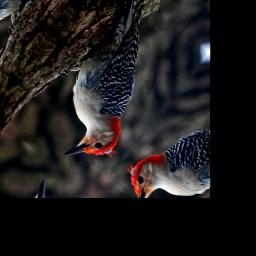Woodpecker: (21, 0, 203, 180)
